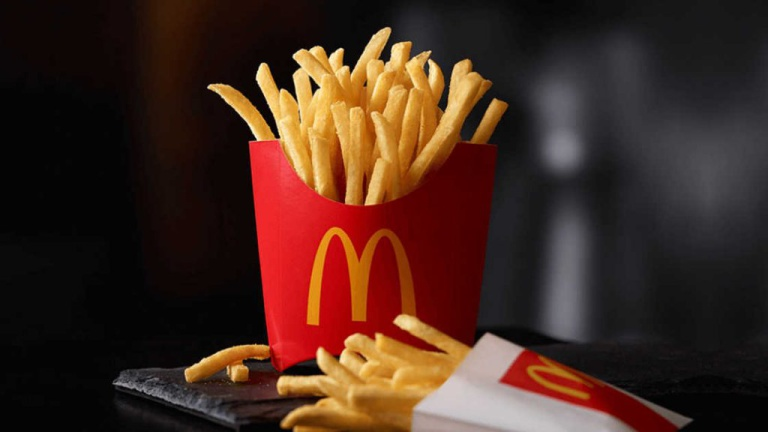mcdonalds: (302, 225, 426, 332)
